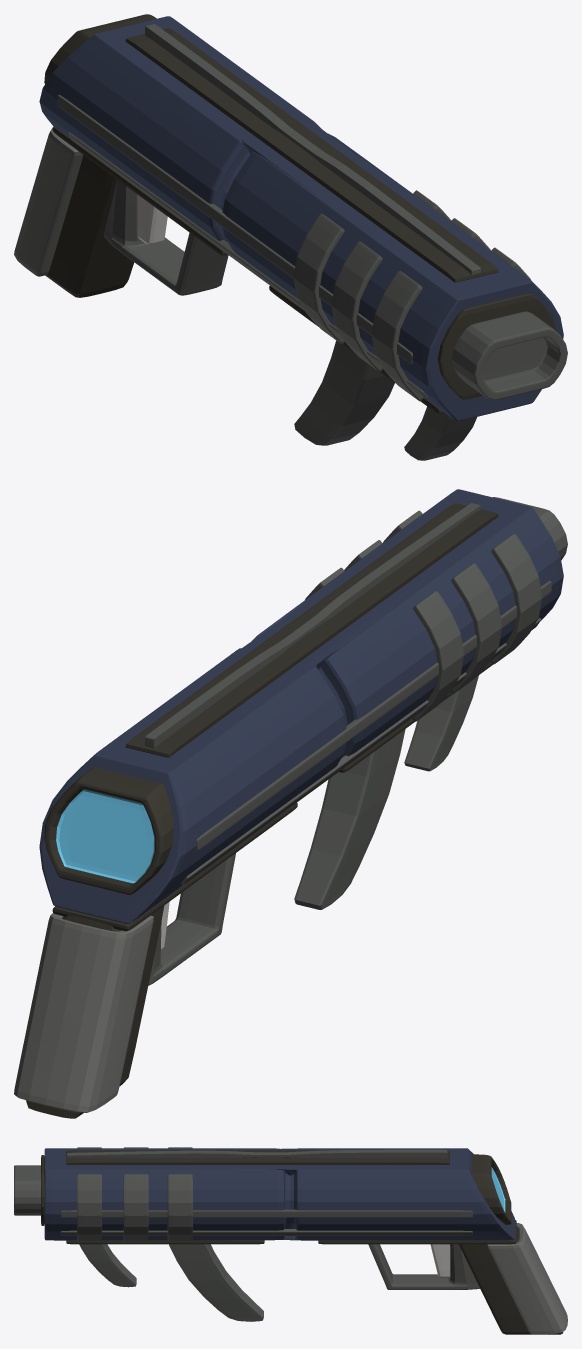
File: shotgun.fbx
3 renders of one model, top to bottom at view 1: azimuth 30°, elevation 25°; view 2: azimuth 150°, elevation 25°; view 3: azimuth 270°, elevation 25°, orthographic. The views are drawn at different scales.
Parts seen in each view (by area): view 1: Cube.001; view 2: Cube.001; view 3: Cube.001.
Boxes of the visible parts, bbox=[...] form: Cube.001: bbox=[14, 14, 567, 460]; Cube.001: bbox=[14, 489, 567, 1118]; Cube.001: bbox=[14, 1147, 567, 1334].
Size of the model in its own units: 2.05 by 11.23 by 3.98.
